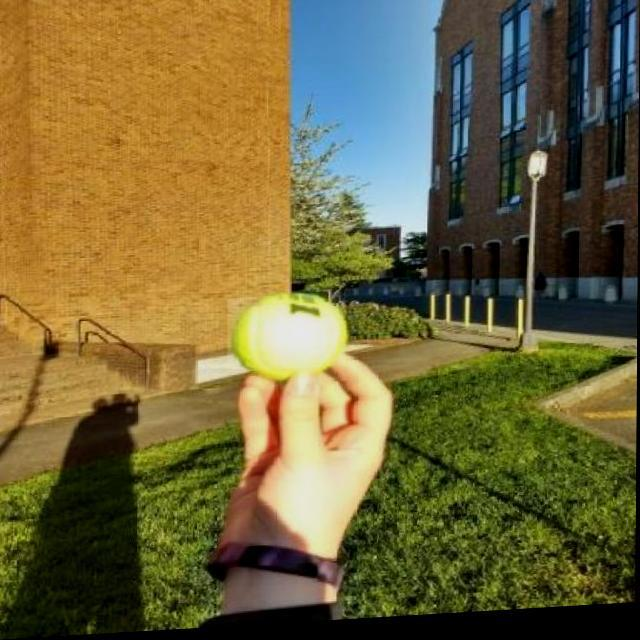-: (228, 296, 346, 375)
